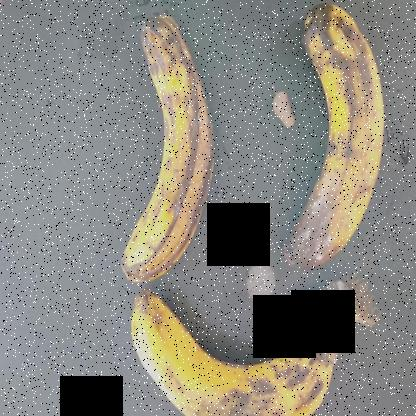overripe: (132, 290, 343, 415)
rotten: (112, 1, 232, 301), (275, 1, 394, 276)
